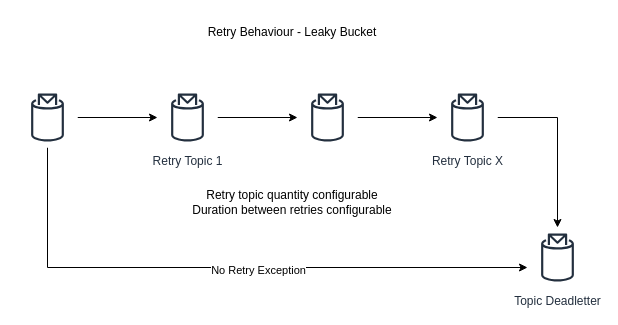
The diagram is 618 pixels wide and 325 high, and some of its shapes have lost their labels. Here are the shapes that lost their labels. From the top down, the box of each, then its label:
(16, 86, 78, 148): Topic
(296, 86, 358, 148): Retry Topic 2
